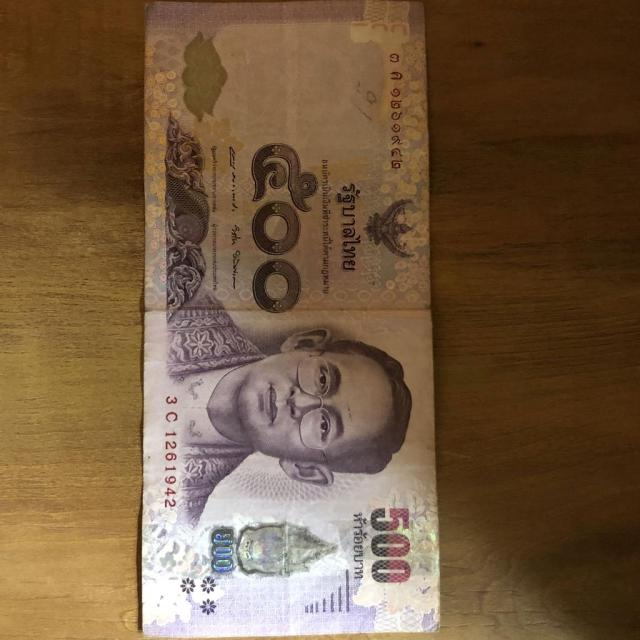THAI500: (142, 0, 439, 637)
